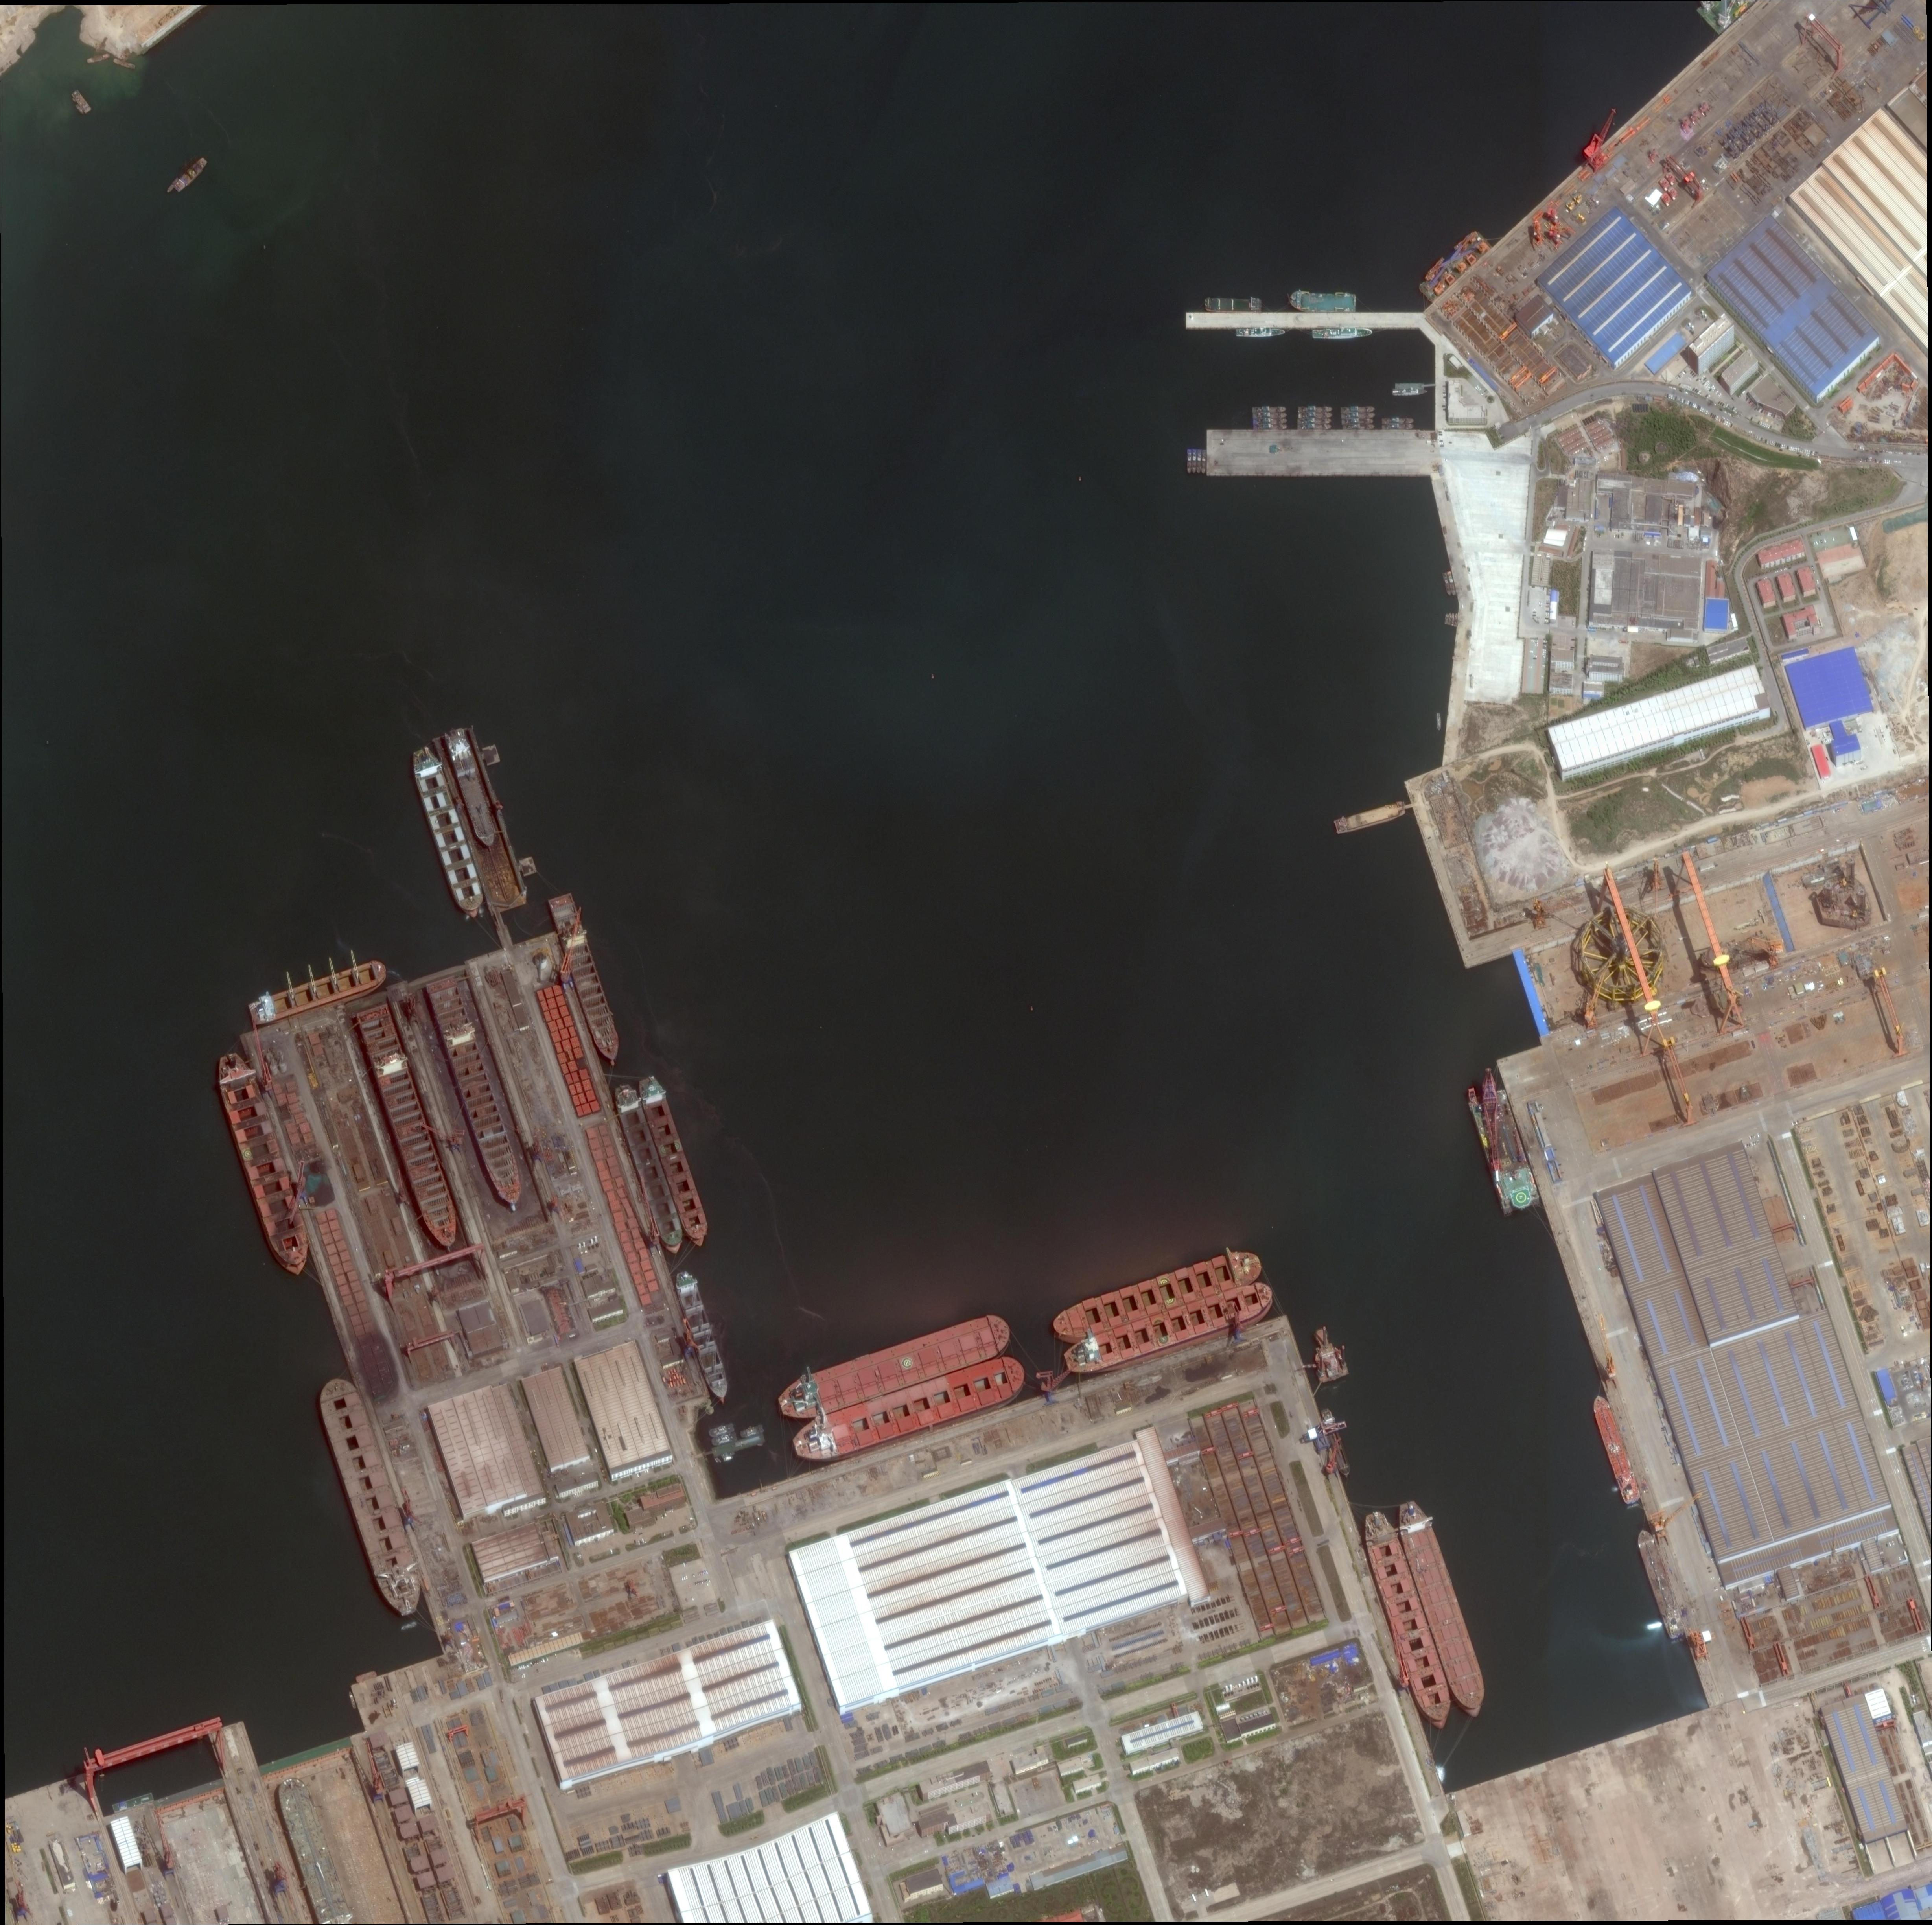harbor: (432, 717, 557, 950)
ship: (786, 1350, 1033, 1472), (772, 1312, 1015, 1428), (314, 1375, 428, 1618), (356, 1003, 467, 1252), (212, 1051, 317, 1280), (425, 977, 529, 1209), (1061, 1278, 1278, 1384), (1391, 1497, 1493, 1721), (1356, 1507, 1458, 1731), (1049, 1245, 1267, 1345), (407, 746, 490, 920), (610, 1082, 689, 1257), (635, 1074, 712, 1250), (548, 892, 624, 1063), (273, 1775, 356, 1925), (247, 959, 390, 1029), (1467, 1089, 1541, 1213), (672, 1269, 732, 1403), (444, 728, 499, 848), (1634, 1527, 1685, 1639), (1590, 1393, 1641, 1505), (1417, 229, 1493, 303), (1333, 800, 1407, 834), (1320, 1408, 1352, 1477), (1290, 291, 1356, 312), (175, 157, 208, 194), (1204, 296, 1260, 312), (113, 1793, 153, 1814), (1313, 328, 1373, 338), (71, 90, 92, 113), (1236, 328, 1285, 337), (709, 1423, 735, 1438), (710, 1431, 737, 1447), (740, 1424, 763, 1438), (354, 1669, 377, 1683), (113, 56, 136, 71), (1447, 571, 1458, 596), (1297, 405, 1333, 412), (1297, 423, 1333, 430), (86, 53, 109, 63), (1442, 573, 1453, 596), (1341, 405, 1375, 412), (166, 178, 180, 194), (1382, 423, 1414, 430), (1341, 418, 1373, 425), (347, 1691, 358, 1710), (1297, 412, 1333, 418), (1297, 418, 1333, 423), (1252, 407, 1287, 412), (1253, 425, 1289, 430), (1393, 390, 1428, 395), (1341, 412, 1375, 418), (1253, 412, 1287, 418), (1253, 418, 1287, 423), (1382, 418, 1414, 423), (1343, 425, 1375, 430), (1197, 450, 1202, 474), (1192, 450, 1197, 474), (1186, 450, 1192, 474), (1437, 712, 1442, 732), (1202, 450, 1206, 474), (1447, 612, 1453, 624), (1451, 613, 1456, 626), (1454, 613, 1458, 628), (1445, 613, 1449, 624)
